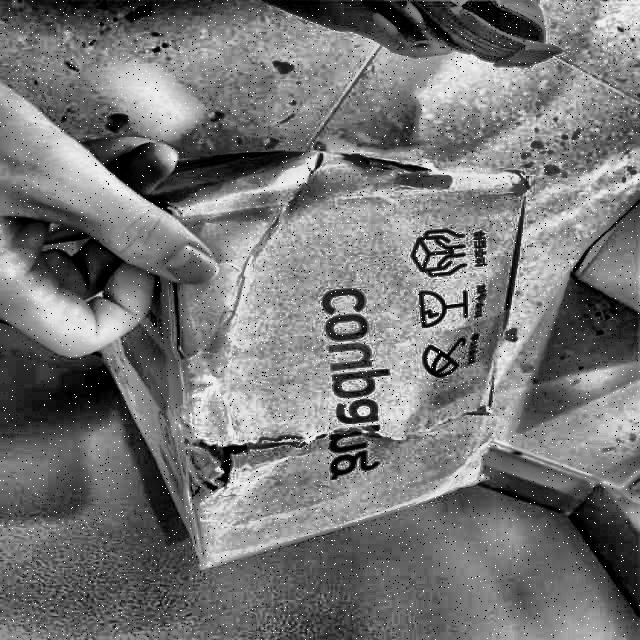box: (75, 139, 539, 577)
hole: (189, 431, 249, 500)
